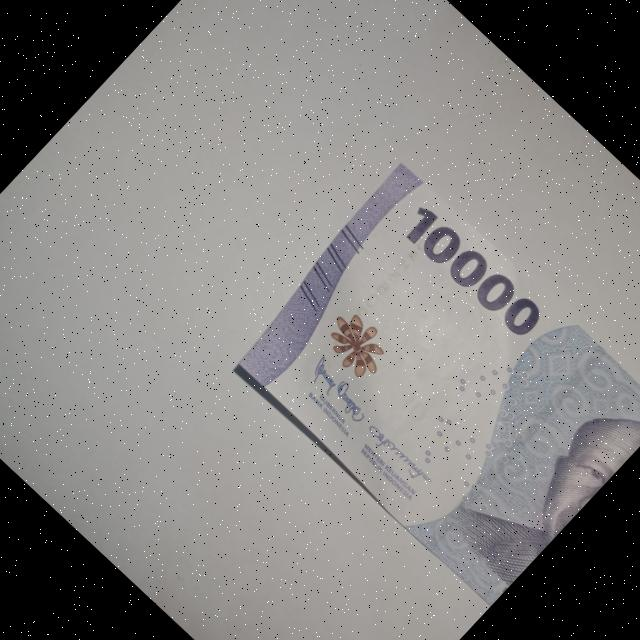10K: (200, 152, 640, 619)
